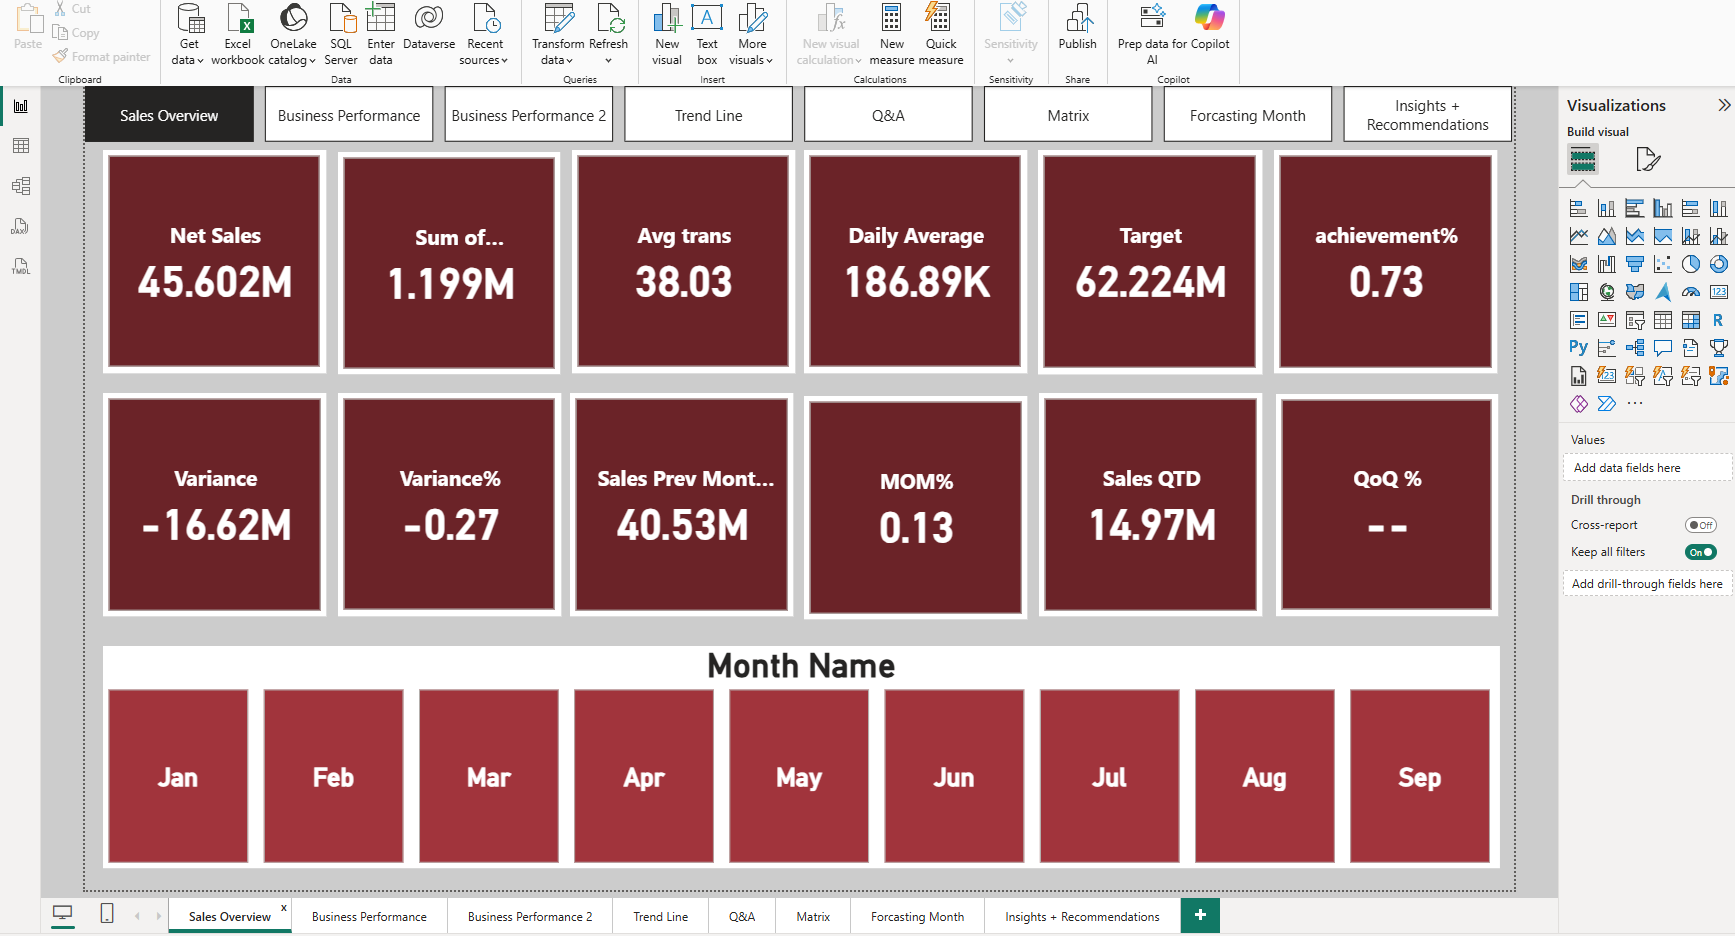

Layout of this report page (visuals, bound fields, positions):
{"tool":"powerbi","page":{"name":"Sales Overview","canvas":[1280,720],"ordinal":0},"visuals":[{"type":"cardVisual","fields":{"Data":["Fact Table.Avg Per trs"]},"box":[436,57,199.6,199.6],"z":0},{"type":"cardVisual","fields":{"Data":["Sum(Fact Table.Net Sales)"]},"box":[15.9,58.7,199.3,199.3],"z":1000},{"type":"cardVisual","fields":{"Data":["Sum(Fact Table.transaction)"]},"box":[226.2,58.7,199.3,199.3],"z":2000},{"type":"cardVisual","fields":{"Data":["Sum(Fact Table.Target)"]},"box":[853.5,57.5,200.5,200.5],"z":3000},{"type":"cardVisual","fields":{"Data":["Fact Table.achievement%"]},"box":[1065,57,200,200],"z":4000},{"type":"cardVisual","fields":{"Data":["Fact Table.Daily Average"]},"box":[644,57,199.6,199.6],"z":5000},{"type":"cardVisual","fields":{"Data":["Fact Table.Variance"]},"box":[15.7,275.1,200,200],"z":7000},{"type":"cardVisual","fields":{"Data":["Fact Table.Variance%"]},"box":[226.6,275.1,199.6,199.6],"z":8000},{"type":"cardVisual","fields":{"Data":["Fact Table.QoQ %"]},"box":[1066.2,275.8,198.7,198.7],"z":9000},{"type":"advancedSlicerVisual","fields":{"Values":["Calender.Month Name"]},"box":[15.9,508.7,1251,199.3],"z":10000},{"type":"cardVisual","fields":{"Data":["Fact Table.Sales QTD"]},"box":[854,275,200,200],"z":11000},{"type":"cardVisual","fields":{"Data":["Fact Table.MOM%"]},"box":[643.6,277.3,200.2,200.2],"z":12000},{"type":"cardVisual","fields":{"Data":["Fact Table.Sales Prev Month v2"]},"box":[434,274.6,200,200.1],"z":13000},{"type":"pageNavigator","box":[0,0,1280.3,50.1],"z":13001}]}

Visuals, with their boxes on the page's 1280x720 design canvas (x1, y1, x2, y2). These are canvas units, not pixel positions in the 1735x936 screenshot, which may show the page scaled, cropped or inside an application window:
cardVisual - Fact Table.Avg Per trs: left=436, top=57, right=636, bottom=257
cardVisual - Sum(Fact Table.Net Sales): left=16, top=59, right=215, bottom=258
cardVisual - Sum(Fact Table.transaction): left=226, top=59, right=426, bottom=258
cardVisual - Sum(Fact Table.Target): left=854, top=58, right=1054, bottom=258
cardVisual - Fact Table.achievement%: left=1065, top=57, right=1265, bottom=257
cardVisual - Fact Table.Daily Average: left=644, top=57, right=844, bottom=257
cardVisual - Fact Table.Variance: left=16, top=275, right=216, bottom=475
cardVisual - Fact Table.Variance%: left=227, top=275, right=426, bottom=475
cardVisual - Fact Table.QoQ %: left=1066, top=276, right=1265, bottom=474
advancedSlicerVisual - Calender.Month Name: left=16, top=509, right=1267, bottom=708
cardVisual - Fact Table.Sales QTD: left=854, top=275, right=1054, bottom=475
cardVisual - Fact Table.MOM%: left=644, top=277, right=844, bottom=478
cardVisual - Fact Table.Sales Prev Month v2: left=434, top=275, right=634, bottom=475
pageNavigator: left=0, top=0, right=1280, bottom=50
